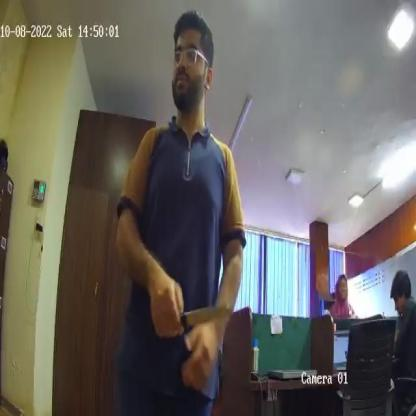Knife: (164, 301, 229, 330)
